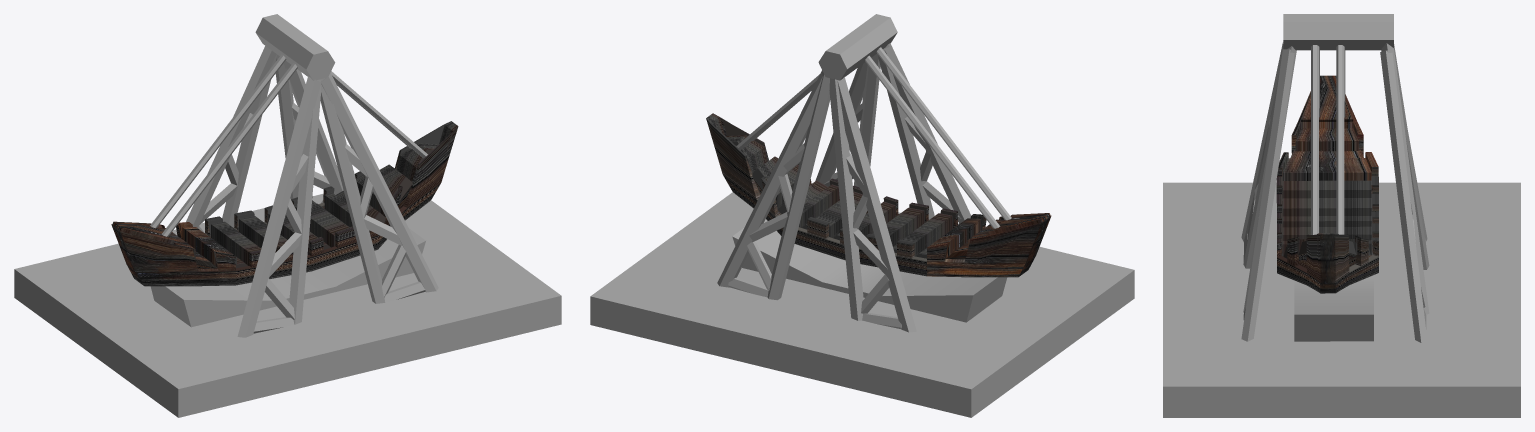
The model's file is shipgame.fbx.
3 views of the same model, side by side, from view 1: azimuth 30°, elevation 25°; view 2: azimuth 150°, elevation 25°; view 3: azimuth 270°, elevation 25° (orthographic). The views are drawn at different scales.
Visible parts, largest first — view 1: ground3, pCube26, pole3, anotherpole3, miniground3, pCylinder4; view 2: ground3, pCube26, anotherpole3, miniground3, pole3, pCylinder4; view 3: ground3, pCube26, pole3, anotherpole3, miniground3, pCylinder4.
Part boxes in pixels (box(x1,y1,x2,y2)): ground3: box(14, 193, 561, 417); pCube26: box(111, 54, 458, 286); pole3: box(237, 73, 438, 337); anotherpole3: box(186, 45, 343, 232); miniground3: box(150, 228, 425, 327); pCylinder4: box(255, 14, 335, 80); ground3: box(590, 192, 1134, 417); pCube26: box(706, 47, 1051, 277); anotherpole3: box(717, 70, 916, 332); miniground3: box(732, 219, 1007, 322); pole3: box(815, 43, 970, 224); pCylinder4: box(818, 14, 897, 80); ground3: box(1163, 182, 1520, 417); pCube26: box(1276, 45, 1378, 293); pole3: box(1241, 42, 1296, 341); anotherpole3: box(1380, 43, 1429, 342); miniground3: box(1294, 275, 1373, 341); pCylinder4: box(1283, 14, 1393, 50).
Size of the model in its own units: 170 by 117 by 126.
2 materials, 1 textured.
